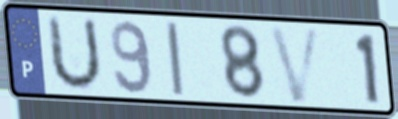1: (353, 30, 381, 107)
8: (217, 21, 268, 103)
9: (108, 17, 155, 95)
I: (163, 19, 187, 98)
U: (46, 12, 104, 94)
V: (266, 24, 325, 106)
